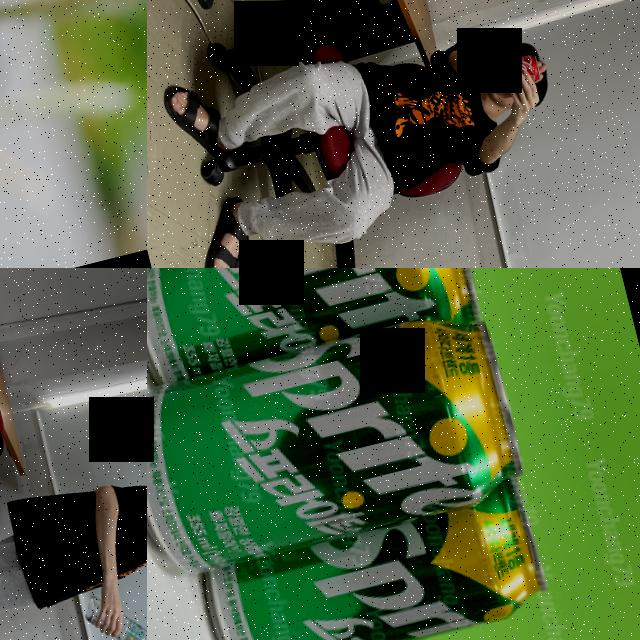bottle: (78, 582, 147, 640)
can: (147, 310, 528, 590), (192, 475, 554, 640), (147, 268, 482, 397), (480, 51, 541, 94)
